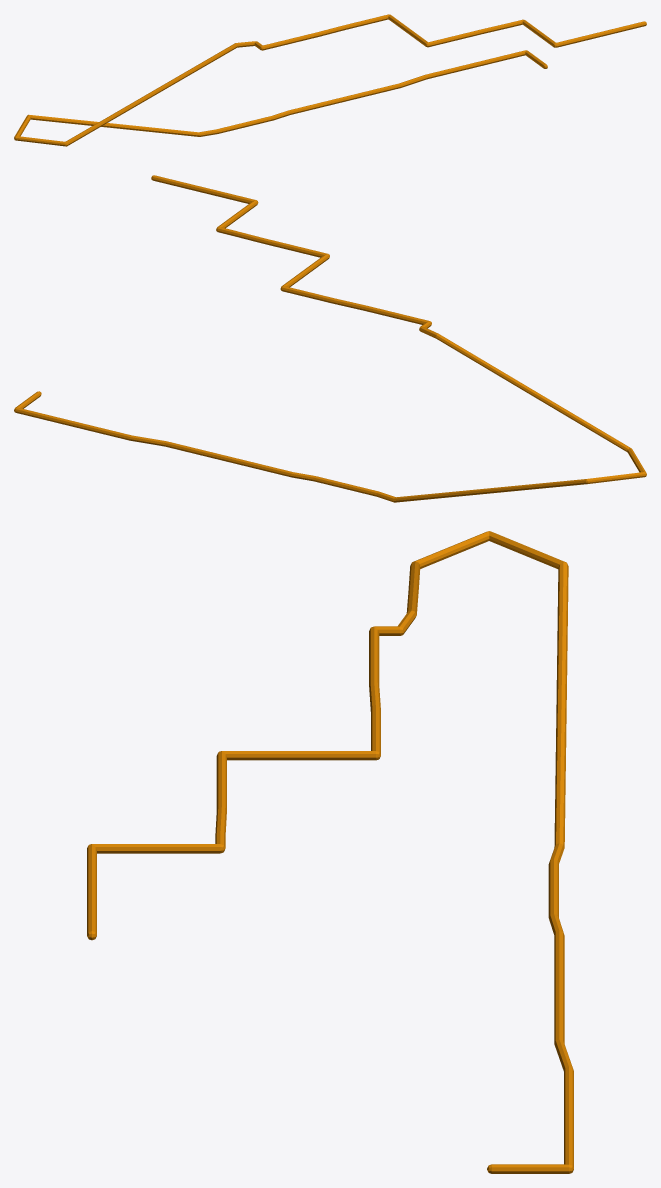
The picture shows the model from 3 angles, top to bottom: view 1: azimuth 30°, elevation 25°; view 2: azimuth 150°, elevation 25°; view 3: azimuth 270°, elevation 25°; orthographic projection. The views are drawn at different scales.
Size of the model in its own units: 2402 by 520 by 949.
